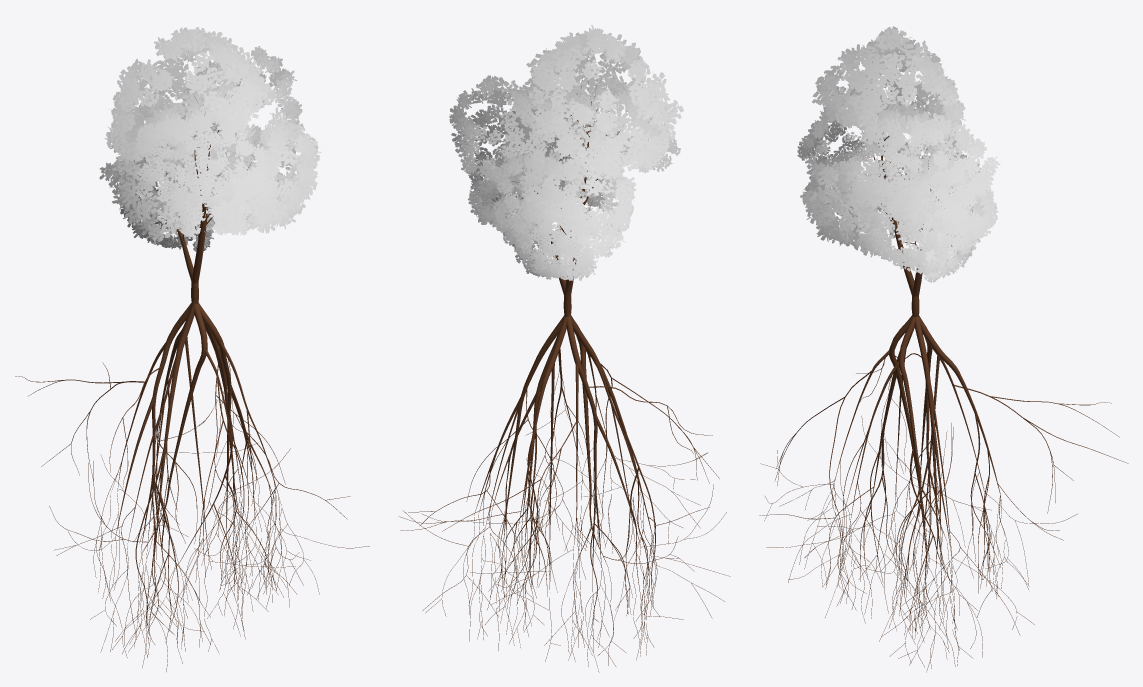
File: Mangrove 3.fbx
3 views of the same model, side by side, from view 1: azimuth 30°, elevation 25°; view 2: azimuth 150°, elevation 25°; view 3: azimuth 270°, elevation 25° (orthographic). The views are drawn at different scales.
Visible parts, largest first — view 1: Leaves 1, a trunk; view 2: Leaves 1, a trunk; view 3: Leaves 1, a trunk.
Boxes of the visible parts, bbox=[...] form: Leaves 1: bbox=[99, 27, 321, 251]; a trunk: bbox=[15, 94, 369, 671]; Leaves 1: bbox=[449, 25, 683, 280]; a trunk: bbox=[398, 78, 730, 672]; Leaves 1: bbox=[797, 26, 1000, 282]; a trunk: bbox=[759, 104, 1128, 672].
Size of the model in its own units: 1080 by 2210 by 1169.
